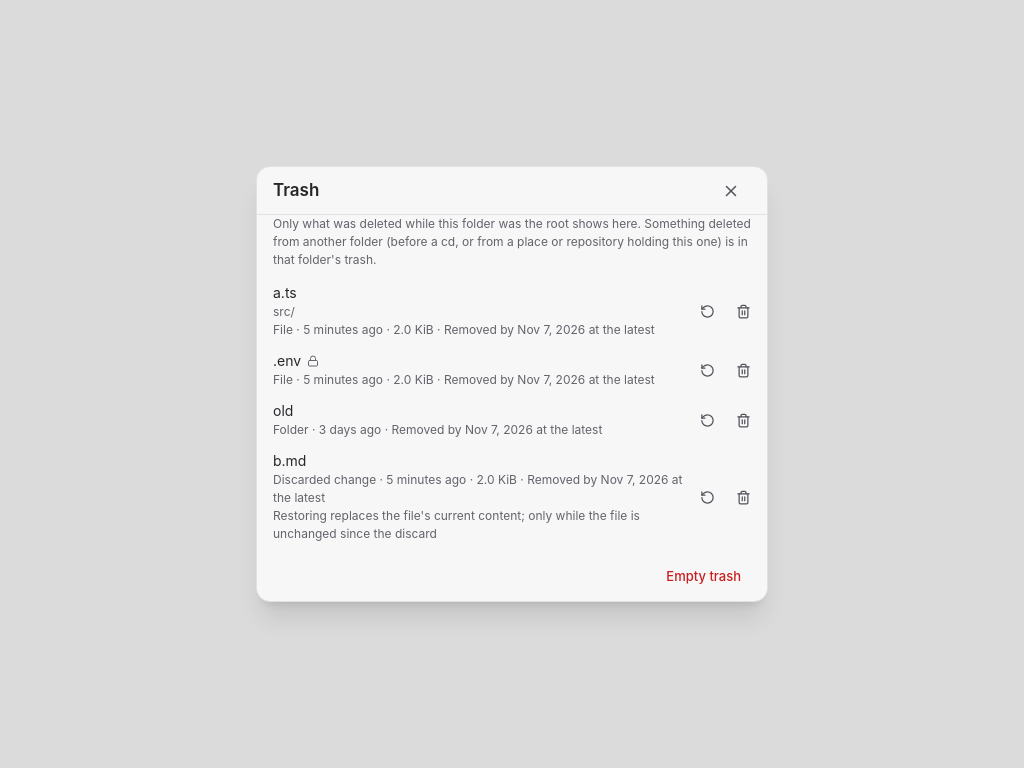
Test case: TrashSheet › an entry gone elsewhere leaves the list, said neutrally
Click the button named "Restore a.ts" at (707, 311), box [691,295,723,327]
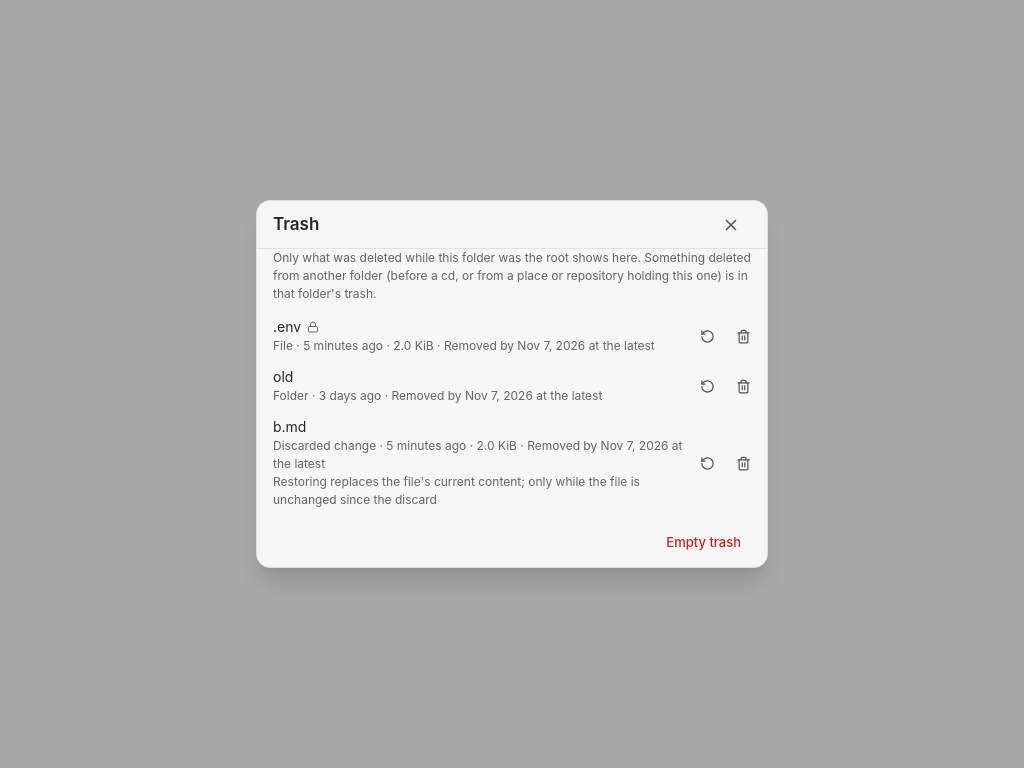
Result: the number of list items is 3 at [257,311,767,361]; [257,361,767,411]; [257,411,767,515]
Click the button named "Delete old permanently" at (743, 386), box [727,370,759,402]
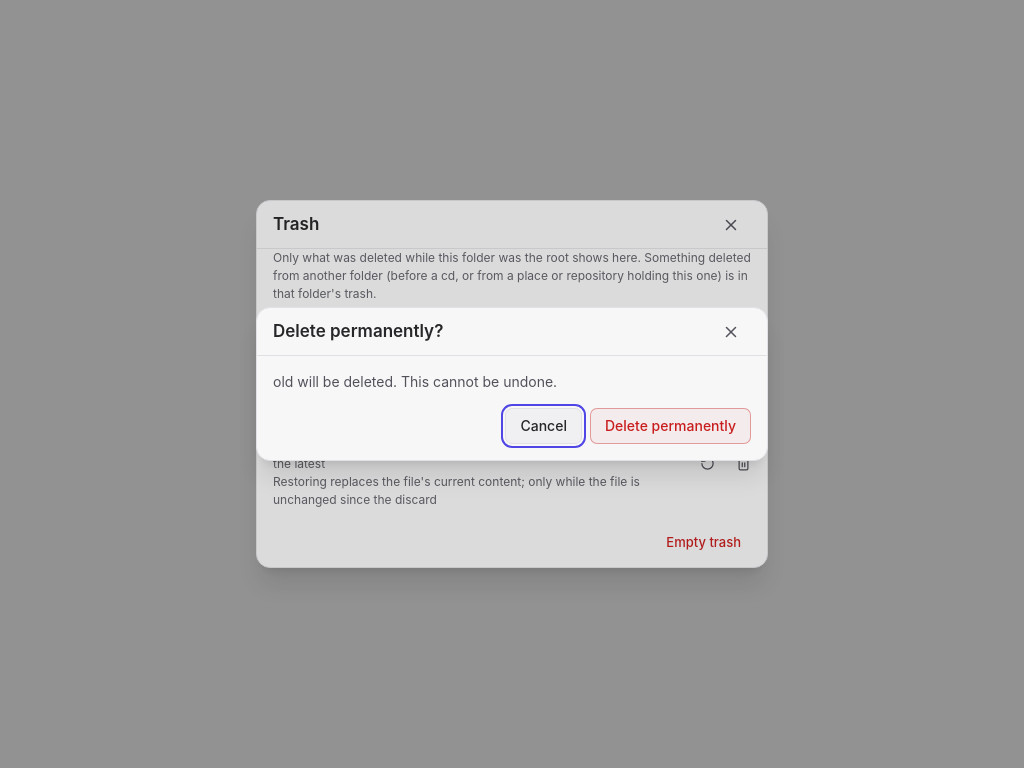
Click the button "Delete permanently" at (670, 426), box [590,408,751,444]
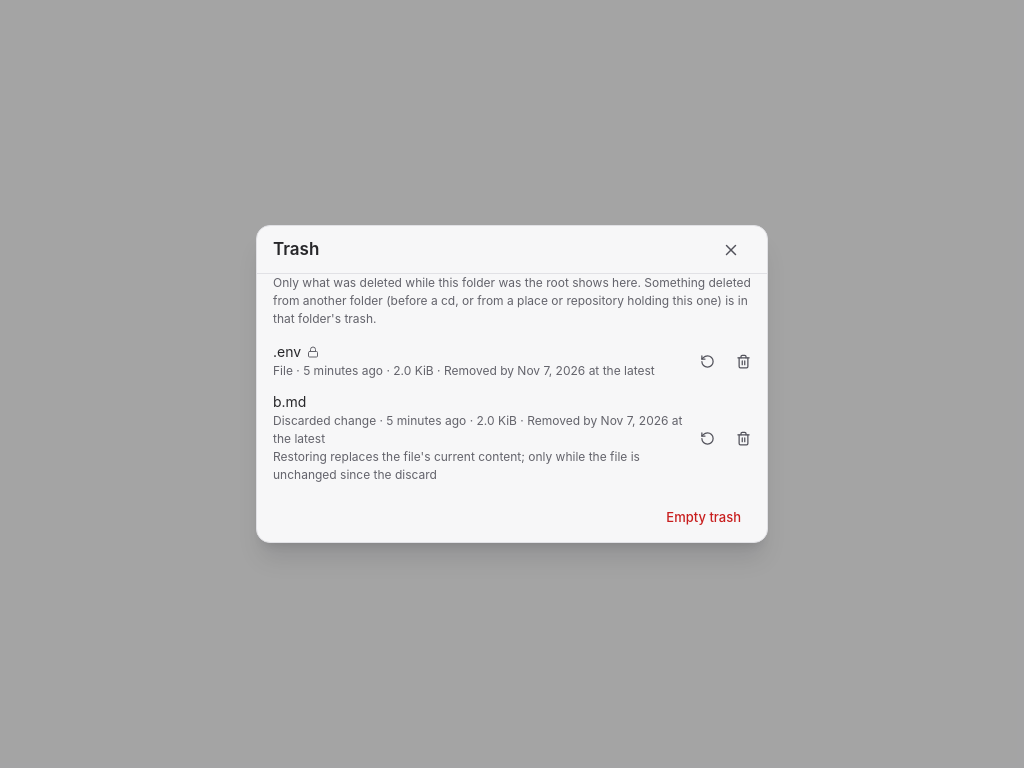
Result: the number of list items is 2 at [257,336,767,386]; [257,386,767,490]
